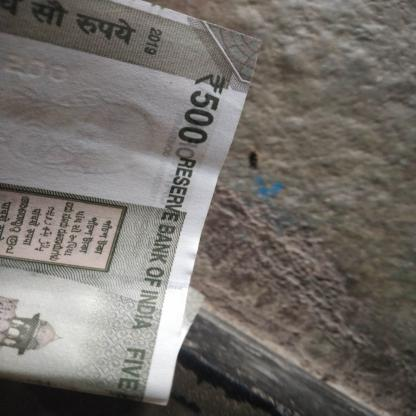New500Back: (0, 0, 252, 405)
